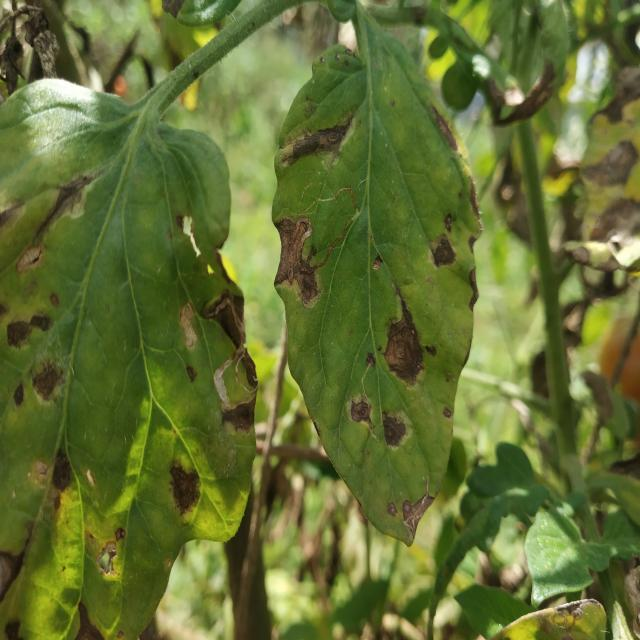Tomato mosaic virus leaf: (0, 108, 261, 640), (268, 41, 484, 550)
